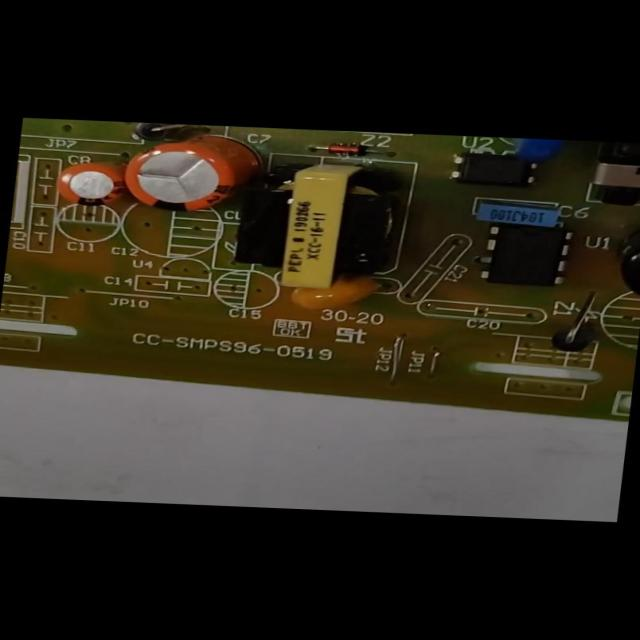Cap1: (116, 137, 246, 215)
Cap2: (50, 160, 126, 209)
Cap3: (618, 224, 639, 300)
MOSFET: (478, 227, 574, 284)
Mov: (508, 138, 566, 161)
Transformer: (226, 162, 403, 290), (588, 142, 639, 205)
